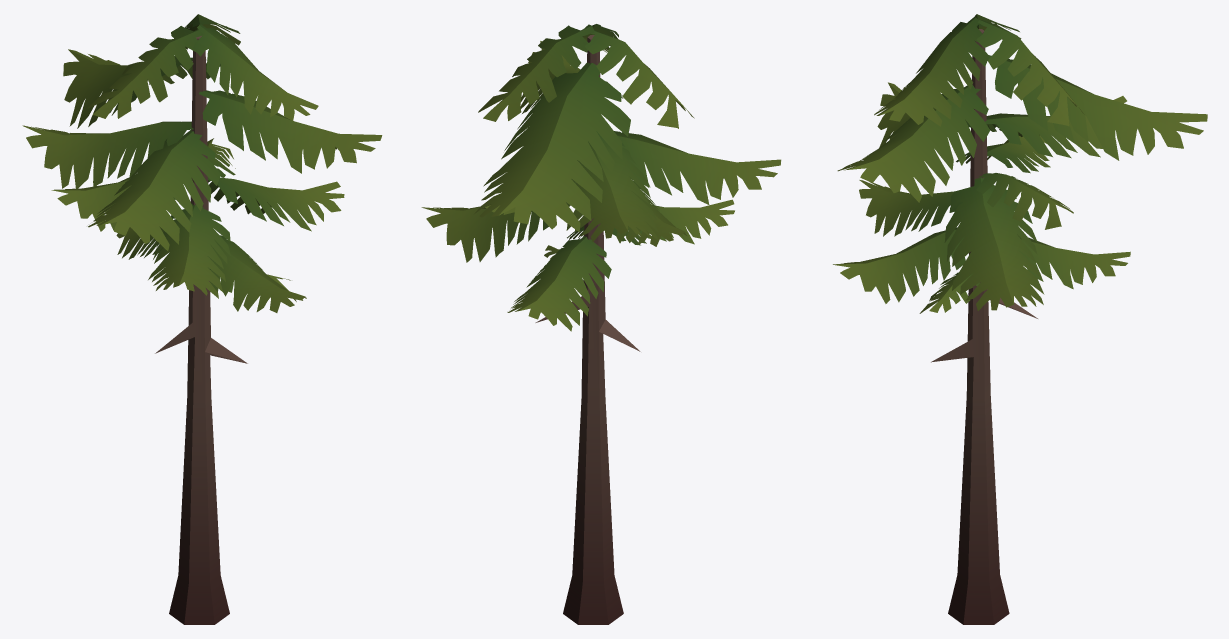
File: DouglasFir2.fbx
The picture shows the model from 3 angles, left to right: view 1: azimuth 30°, elevation 25°; view 2: azimuth 150°, elevation 25°; view 3: azimuth 270°, elevation 25°; orthographic projection.
Parts seen in each view (by area): view 1: Cylinder.001; view 2: Cylinder.001; view 3: Cylinder.001.
Part boxes in pixels (<box>): Cylinder.001: <box>22,14,382,624</box>; Cylinder.001: <box>421,24,781,624</box>; Cylinder.001: <box>833,14,1207,624</box>.
Size of the model in its own units: 1209 by 2130 by 1294.
